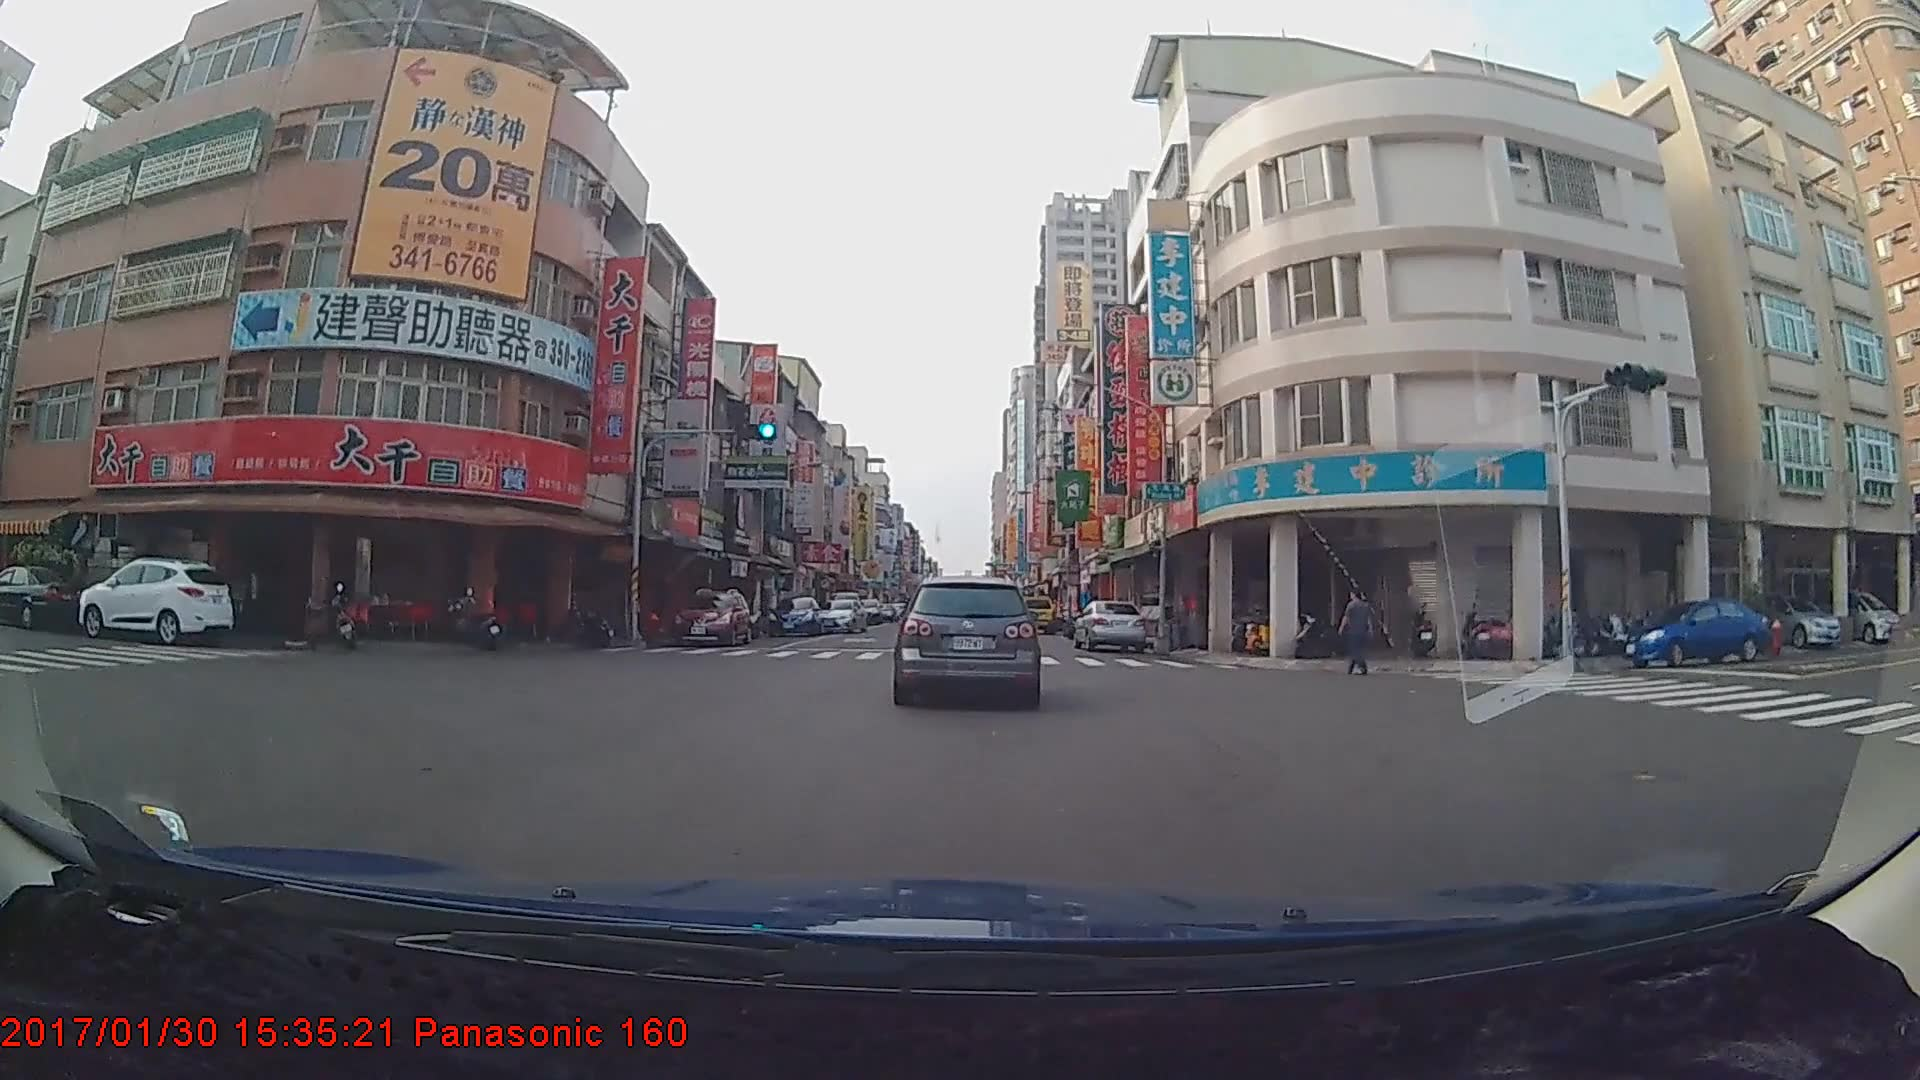pedestrian: (1340, 591, 1376, 680)
vehicle: (893, 574, 1040, 708), (76, 555, 231, 645), (1624, 595, 1769, 666), (1734, 586, 1845, 648), (1801, 586, 1906, 640), (1, 566, 82, 631), (668, 586, 753, 643), (1067, 596, 1146, 655), (766, 588, 825, 631), (811, 593, 867, 628), (1015, 593, 1058, 631)
